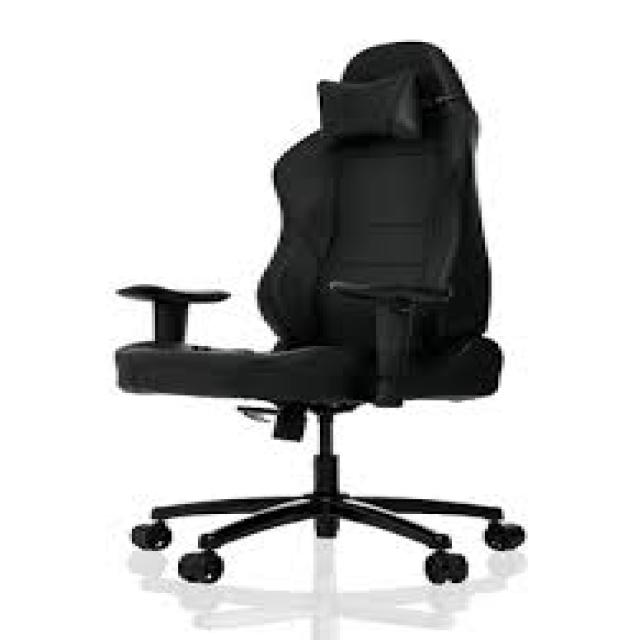chair: (89, 27, 570, 640)
